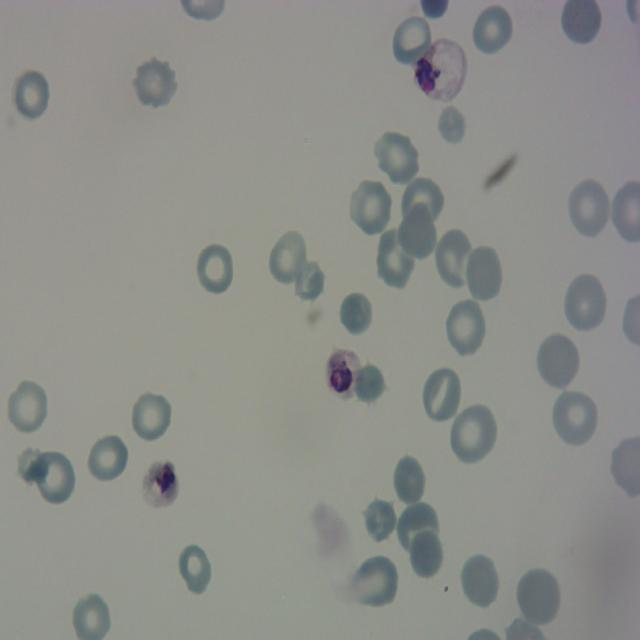leukocyte: (448, 400, 499, 467), (515, 566, 562, 628), (347, 176, 394, 238), (350, 553, 400, 611), (373, 226, 418, 290), (562, 272, 608, 334), (443, 296, 488, 359), (535, 331, 582, 391), (551, 390, 599, 448), (396, 500, 441, 561), (30, 450, 77, 508), (372, 130, 419, 188), (5, 377, 50, 437), (420, 365, 464, 426), (434, 226, 474, 292), (267, 228, 310, 288), (132, 54, 178, 110), (568, 180, 612, 238), (470, 1, 515, 57), (391, 12, 434, 69), (129, 389, 173, 444), (459, 553, 501, 609), (464, 244, 504, 302), (195, 241, 236, 297), (86, 432, 130, 484), (401, 176, 445, 227), (11, 67, 51, 123), (397, 207, 437, 260), (177, 541, 215, 596), (392, 453, 428, 508), (290, 254, 327, 305), (362, 496, 399, 546), (340, 287, 378, 334), (409, 530, 444, 580), (16, 445, 51, 486), (352, 363, 386, 405), (436, 103, 467, 146)
schizont: (413, 38, 466, 105), (138, 457, 180, 511), (323, 348, 362, 401)
